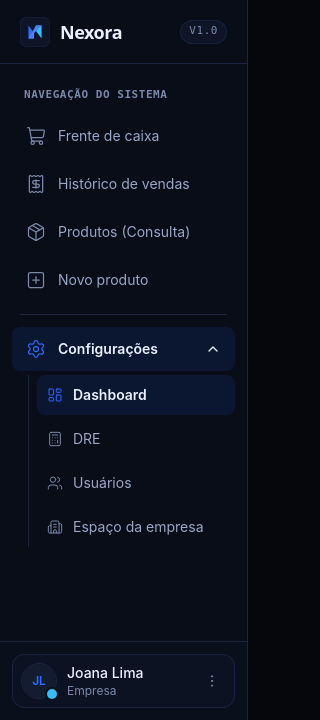
Test case: Sidebar settings navigation › groups dashboard, DRE, users and company workspace under expandable settings
Later steps or results of the test are not shown.
Expected: the button "DRE" is shown, [37, 419, 235, 459]
Expected: the button "Usuários" is shown, [37, 463, 235, 503]
Click the button "Configurações" at (124, 349), box [12, 327, 235, 371]
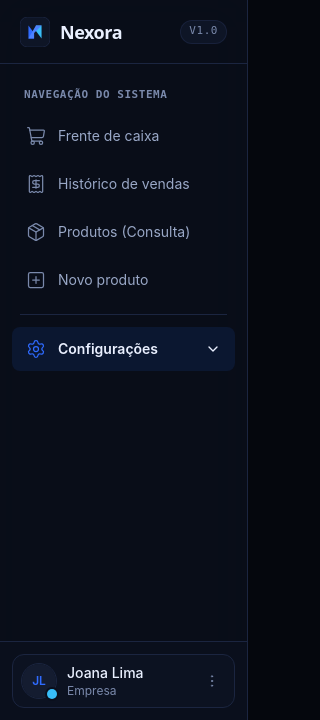
Now the button "DRE" is gone
